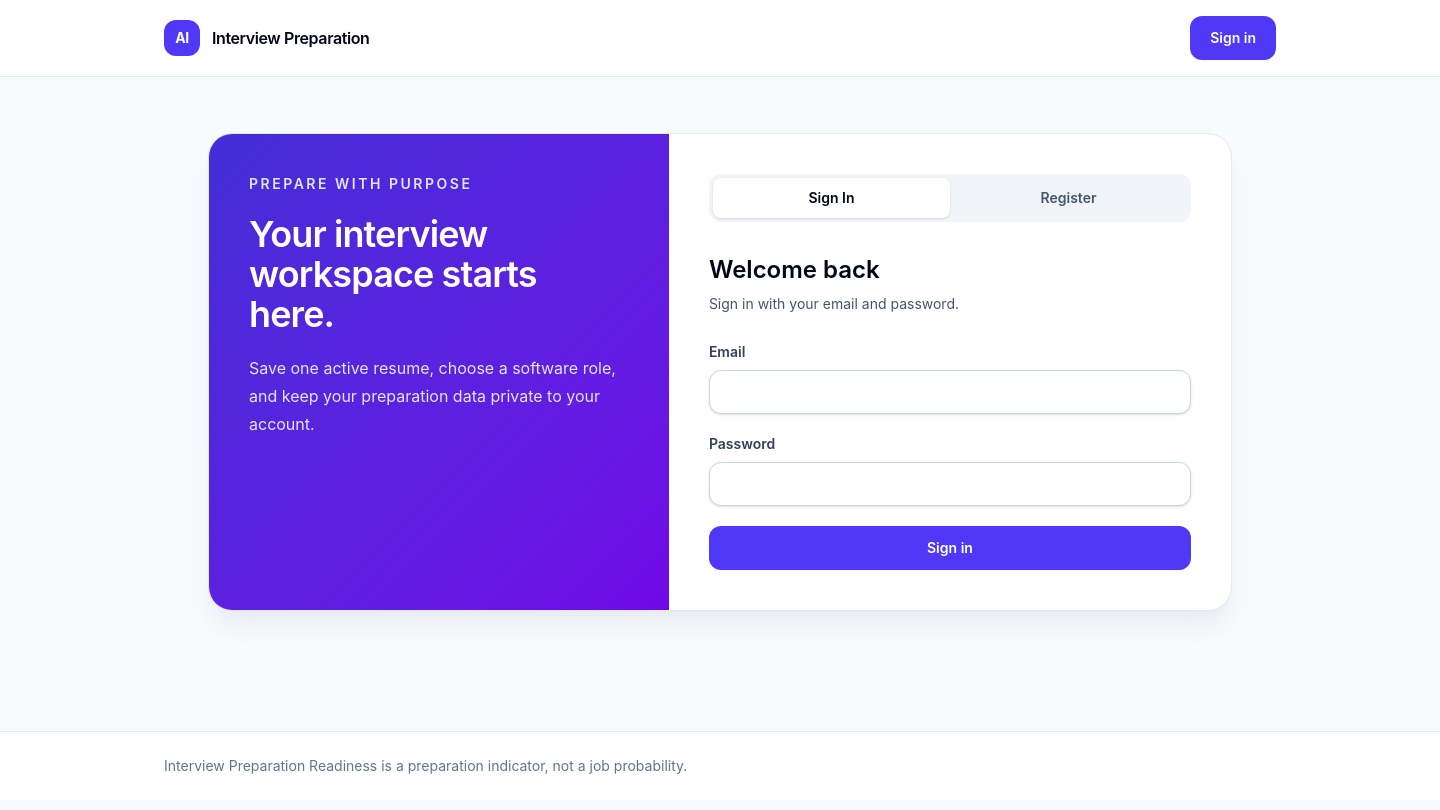
Test: Phase 2 application flows › registers a user and opens their dashboard
Click the button "Register": (1069, 198) 950,178 -> 1187,218
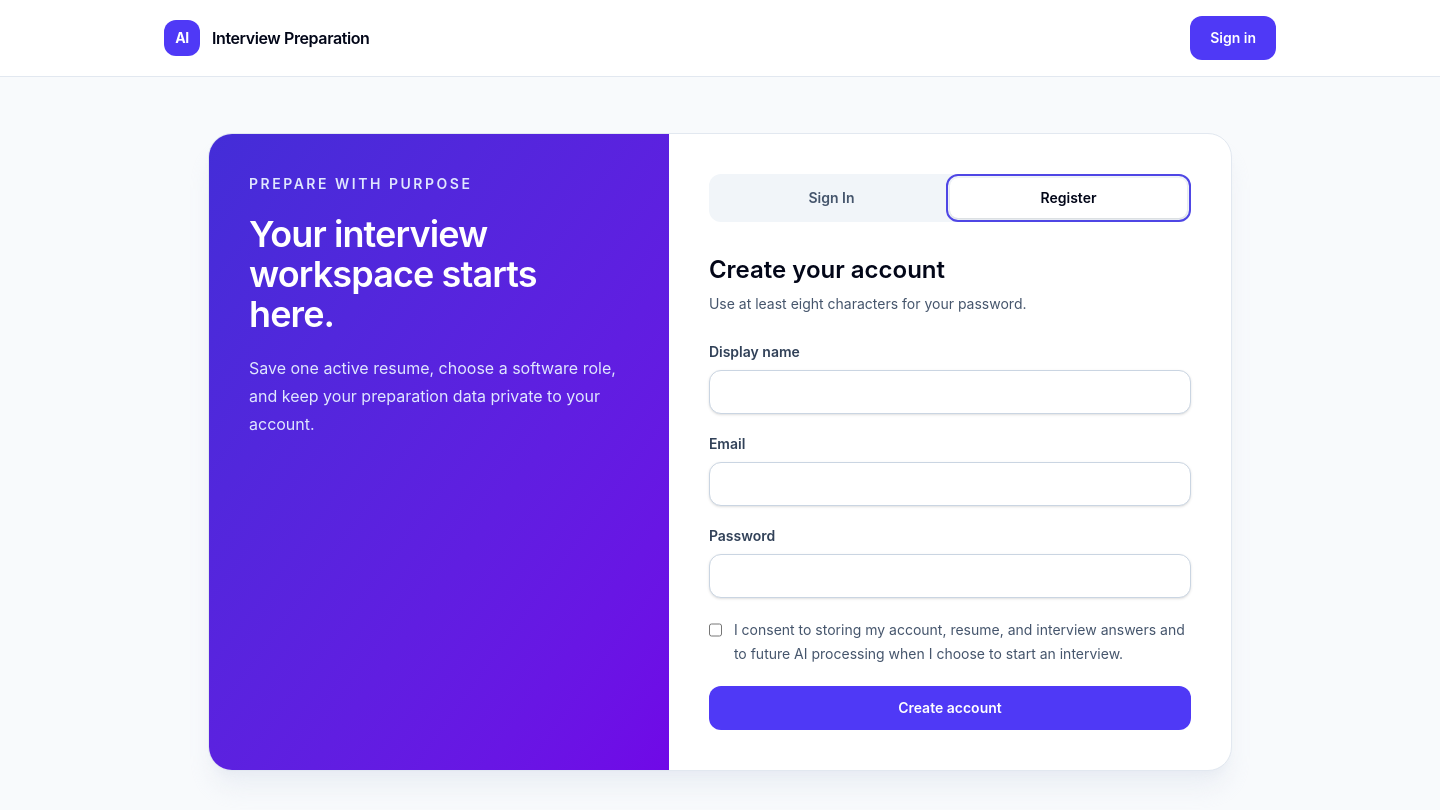
In the field labelled "Display name": (950, 392) 709,370 -> 1191,414, type "Test Student"
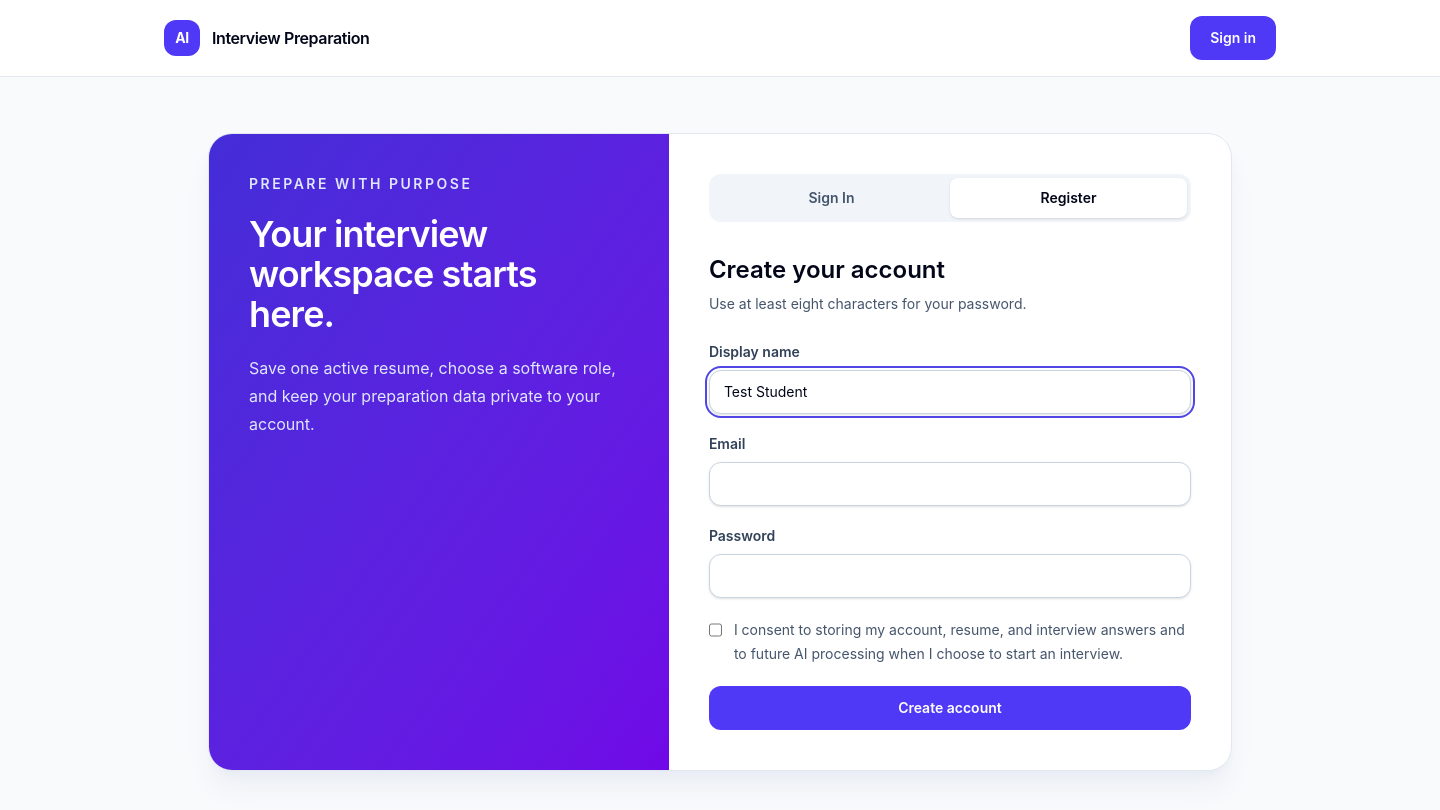
In the field labelled "Email": (950, 484) 709,462 -> 1191,506, type "student@example.com"
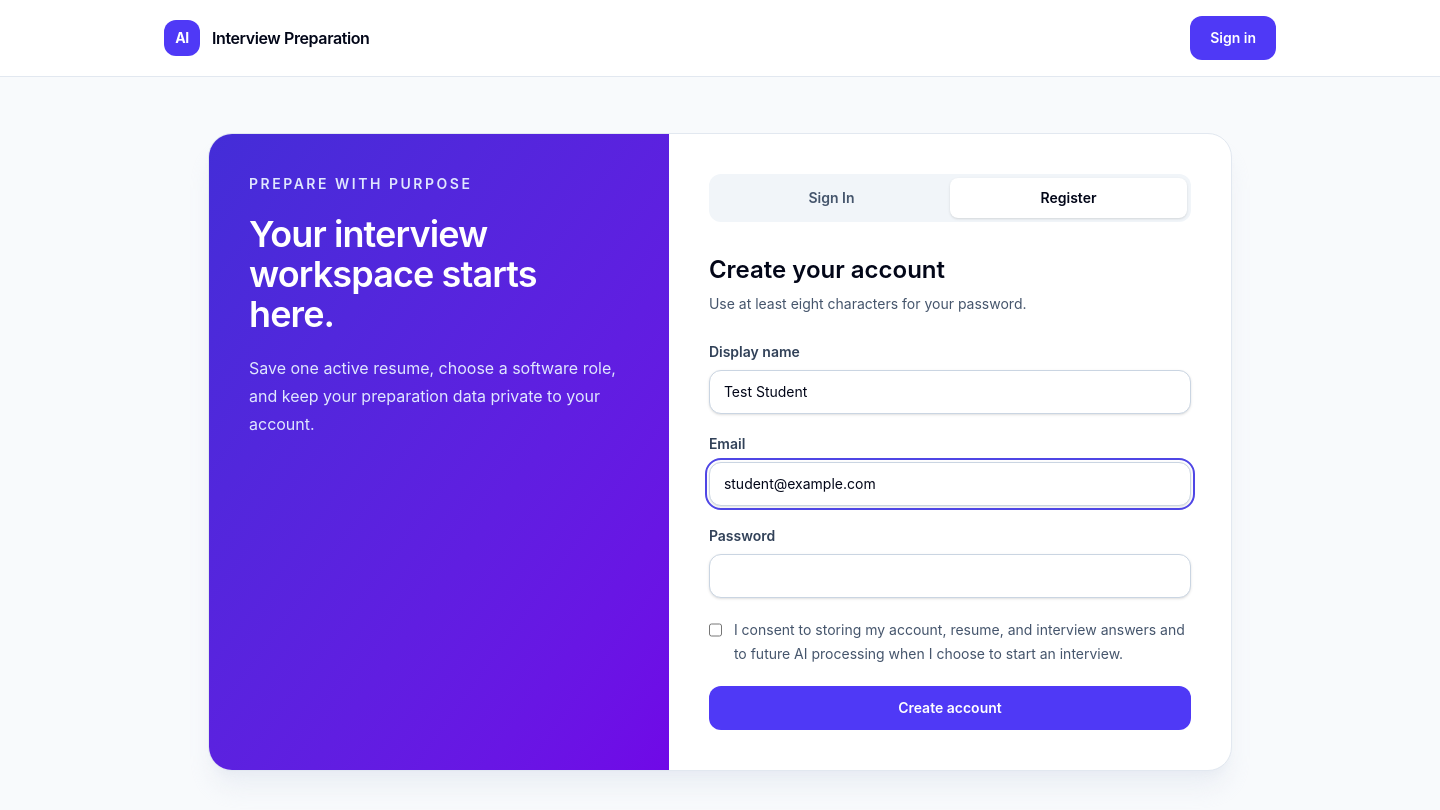
In the password field labelled "Password": (950, 576) 709,554 -> 1191,598, type "student-pass-123"
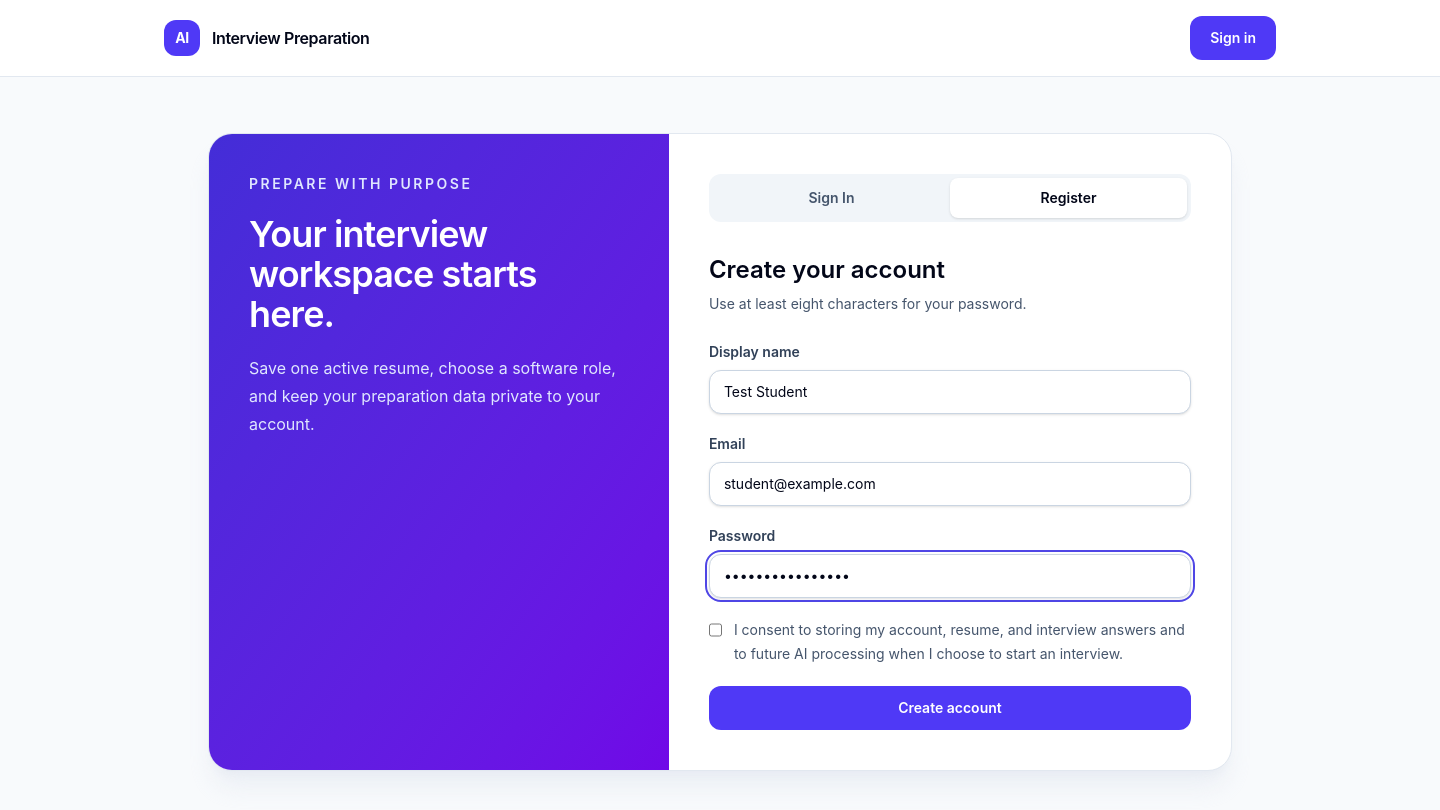
Click the checkbox: (715, 630) 709,622 -> 722,638
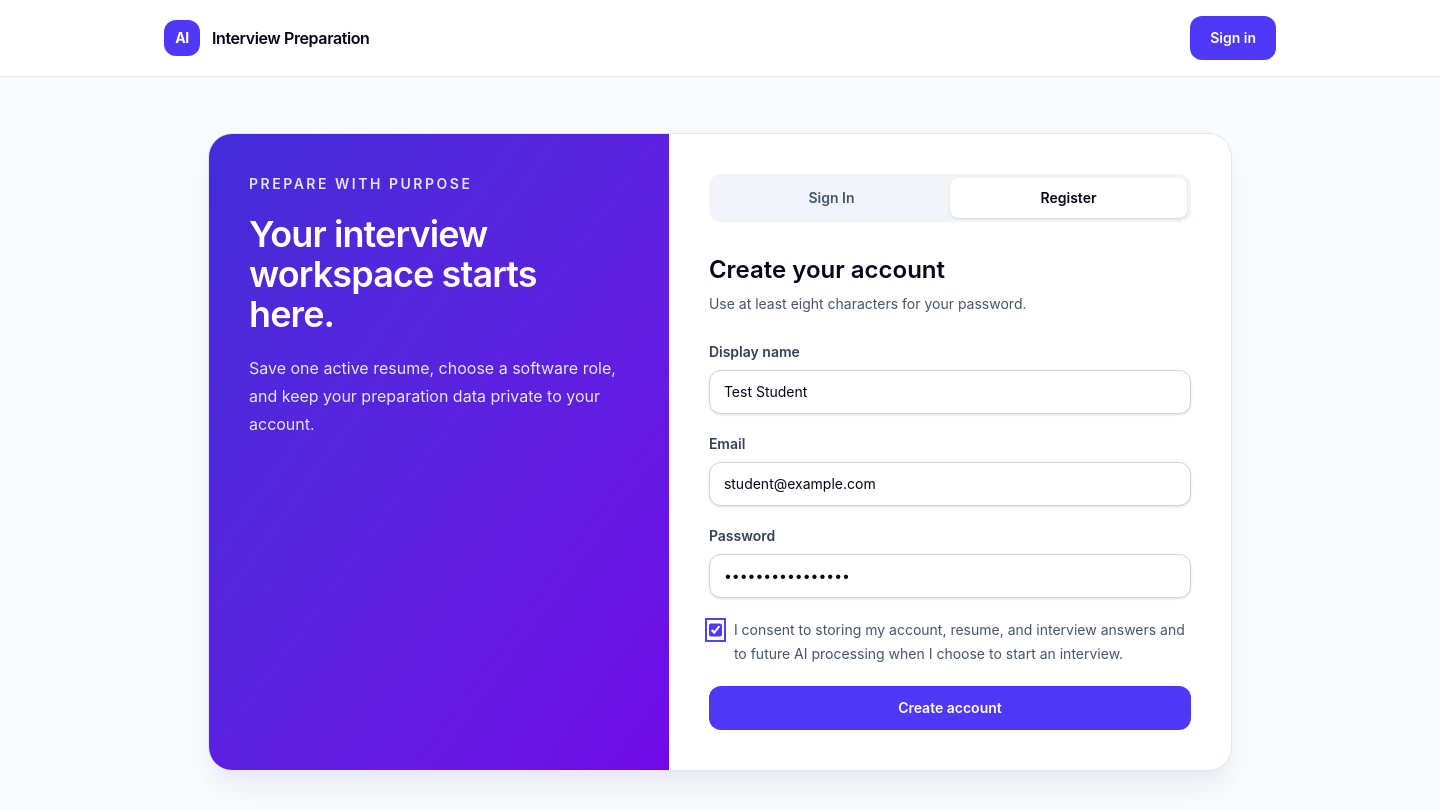
Click the button "Create account": (950, 708) 709,686 -> 1191,730
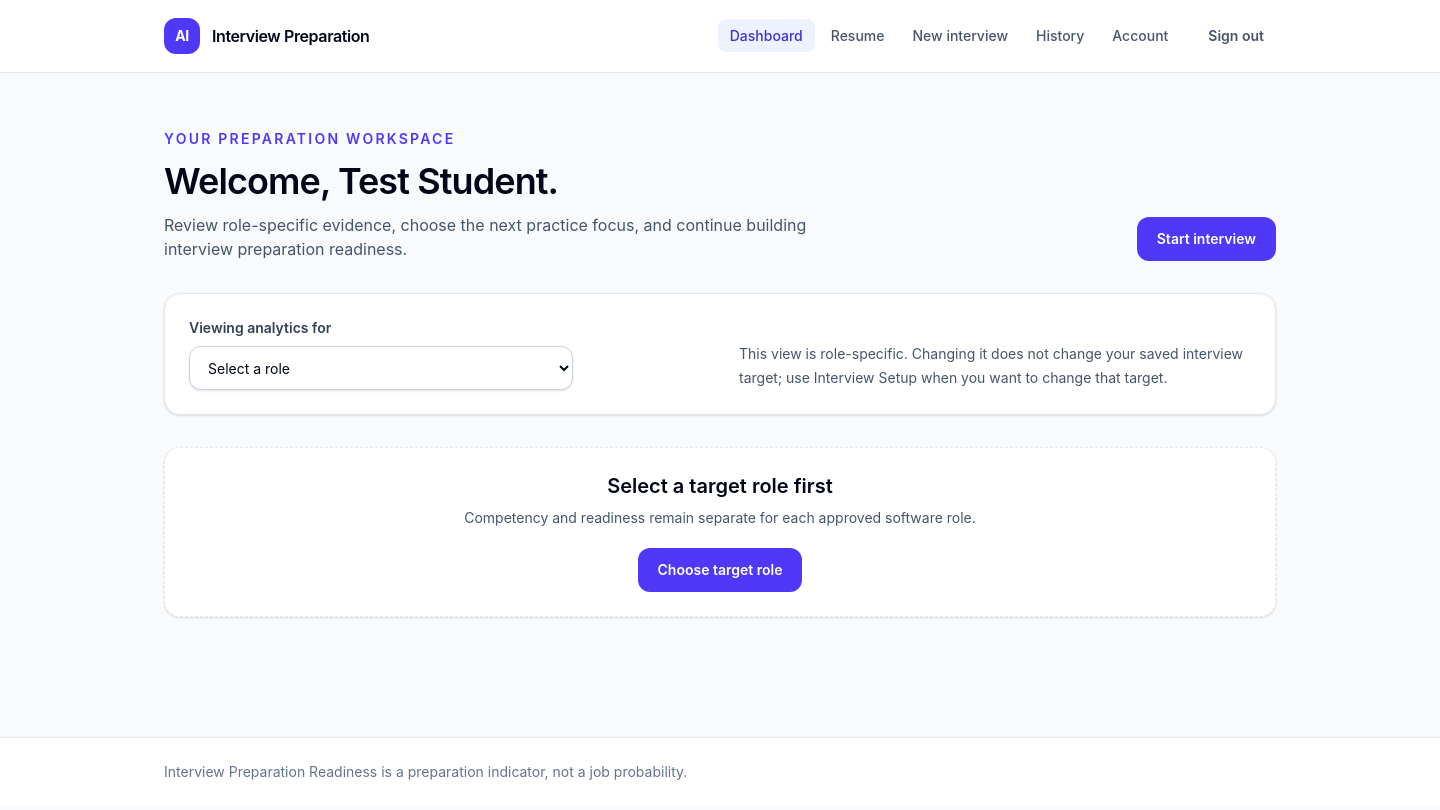
Result: the heading "Welcome, Test Student." is shown at 164,159 -> 558,203
